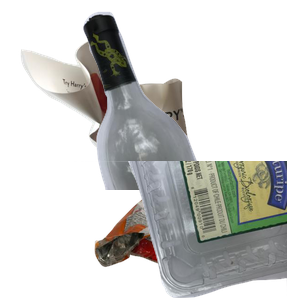glass: (81, 10, 300, 190)
paper: (18, 30, 213, 210)
plastic: (60, 161, 300, 300)
trash: (92, 174, 272, 300)
